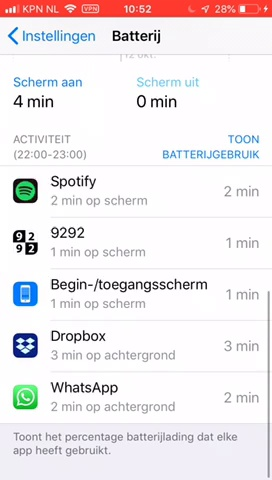activity: (9, 132, 92, 162)
app: (8, 272, 267, 313), (7, 375, 263, 415), (8, 221, 264, 260), (7, 324, 263, 363), (9, 172, 262, 210)
